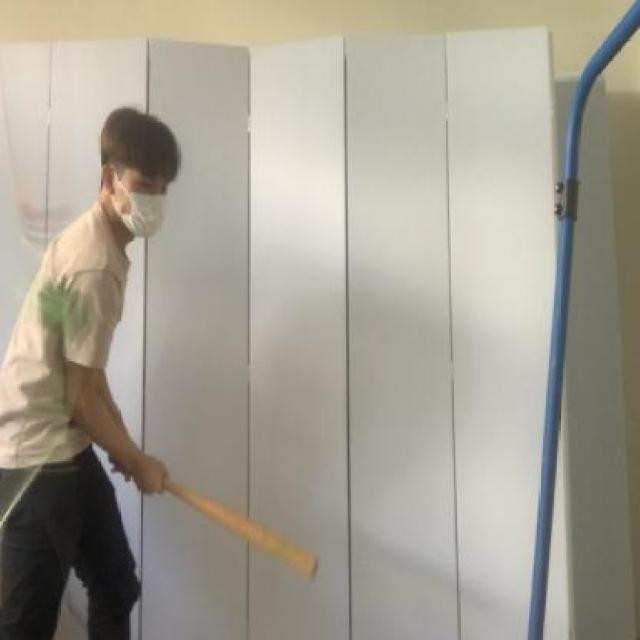baseball: (12, 278, 98, 347)
